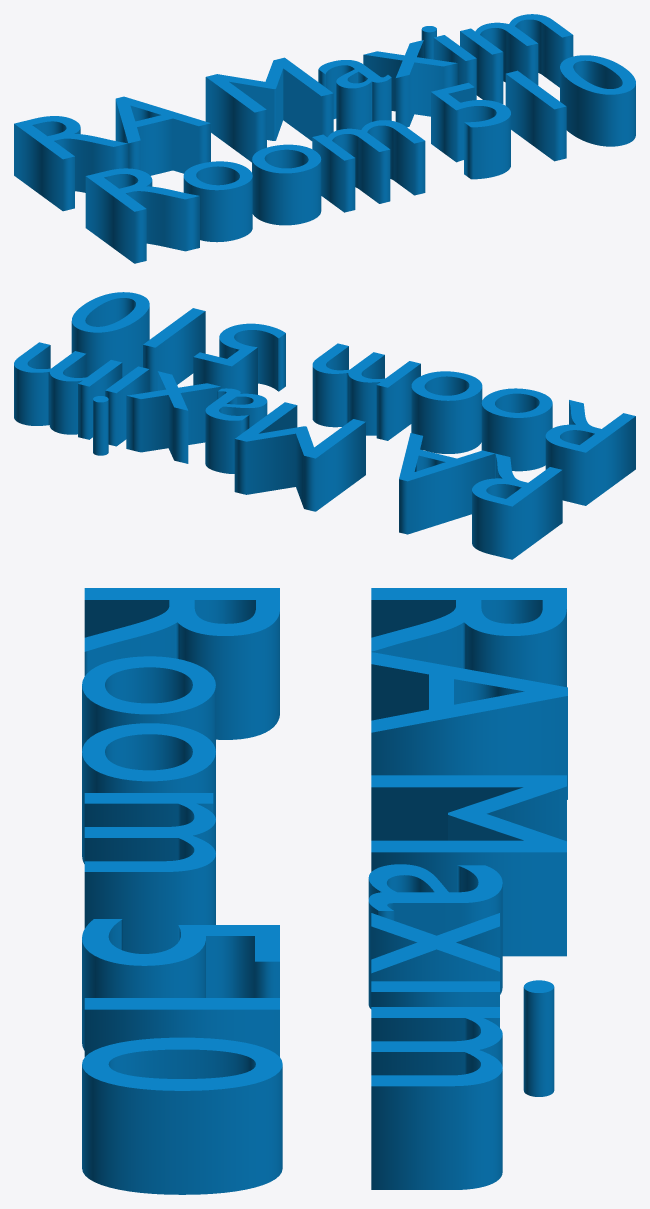
The model's file is ra-maxim-510.gltf.
3 renders of one model, top to bottom at view 1: azimuth 30°, elevation 25°; view 2: azimuth 150°, elevation 25°; view 3: azimuth 270°, elevation 25°, orthographic. The views are drawn at different scales.
Visible parts, largest first — view 1: Text; view 2: Text; view 3: Text.
Boxes of the visible parts, bbox=[...] form: Text: bbox=[14, 14, 635, 263]; Text: bbox=[14, 292, 635, 559]; Text: bbox=[82, 588, 567, 1194].
Bounding box in the file's own units: 4.15 × 0.4 × 1.69.
